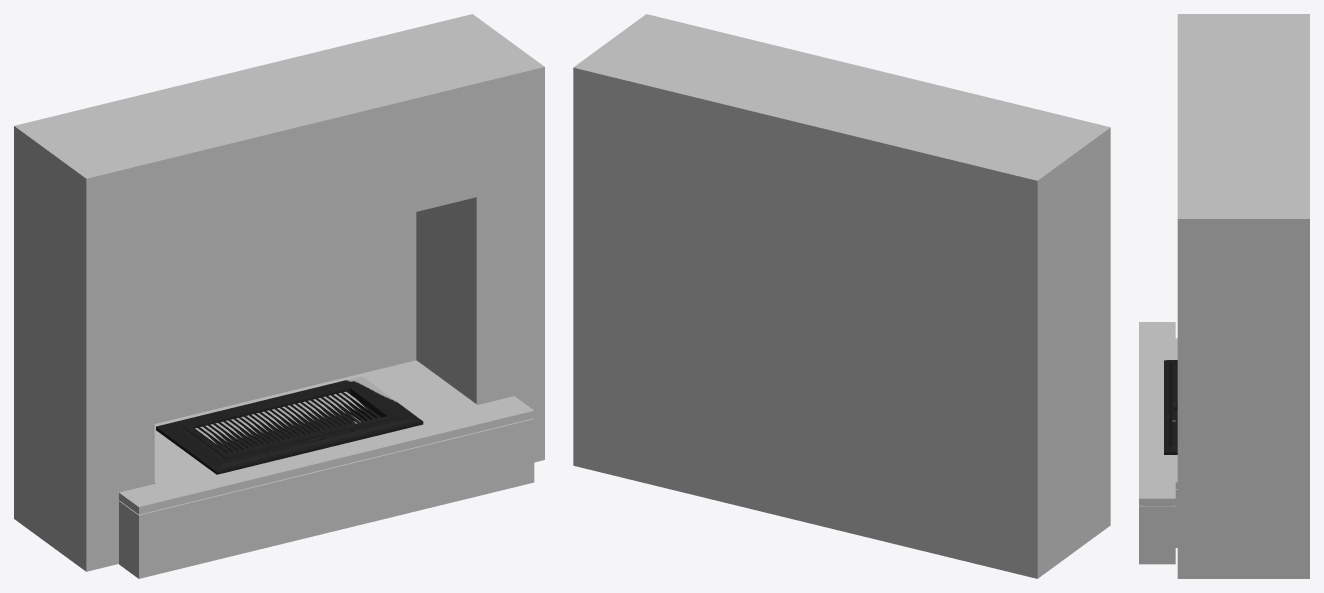
File: Hauptmann.fbx
3 renders of one model, left to right at view 1: azimuth 30°, elevation 25°; view 2: azimuth 150°, elevation 25°; view 3: azimuth 270°, elevation 25°, orthographic. The views are drawn at different scales.
Parts seen in each view (by area): view 1: Cube.011; view 2: Cube.011; view 3: Cube.011.
Boxes of the visible parts, x1=… form: Cube.011: x1=14, y1=14, x2=544, y2=578; Cube.011: x1=573, y1=14, x2=1110, y2=578; Cube.011: x1=1139, y1=14, x2=1309, y2=578.
Bounding box in the file's own units: 220 × 180 × 77.42.
